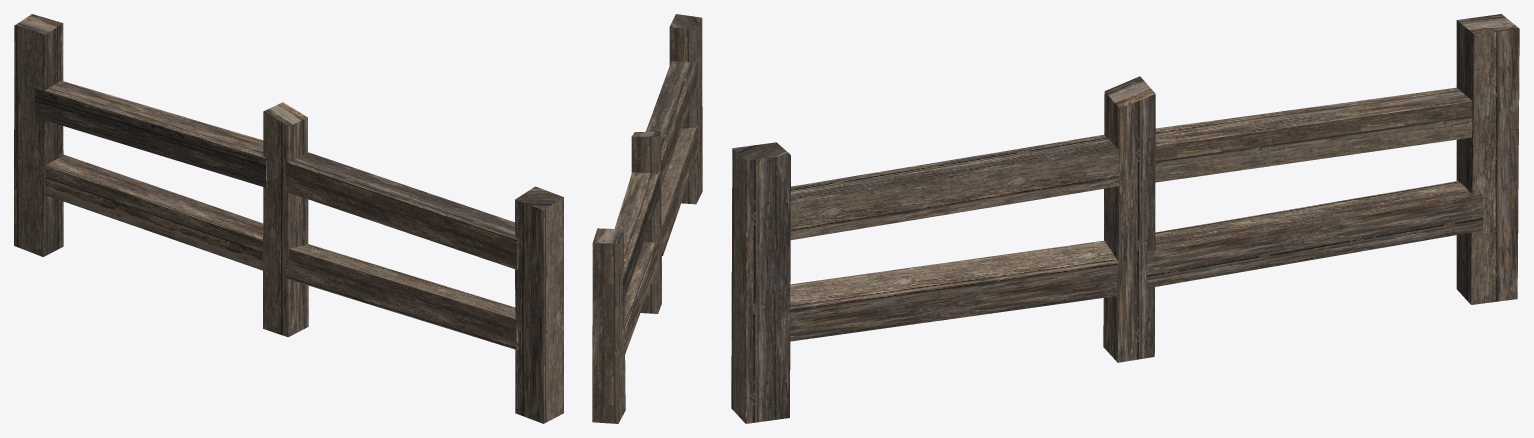
File: fence_wood.glb
3 renders of one model, left to right at view 1: azimuth 30°, elevation 25°; view 2: azimuth 150°, elevation 25°; view 3: azimuth 270°, elevation 25°, orthographic. The views are drawn at different scales.
Parts seen in each view (by area): view 1: Object_2; view 2: Object_2; view 3: Object_2.
Part boxes in pixels (x1,y1,x2,y2): Object_2: [14, 14, 563, 423]; Object_2: [592, 14, 702, 423]; Object_2: [731, 14, 1519, 423].
Size of the model in its own units: 1.7 by 1.51 by 3.97.
Materials: 1 (1 with a texture image).
